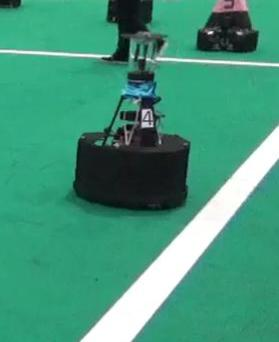robot: (71, 32, 191, 214)
